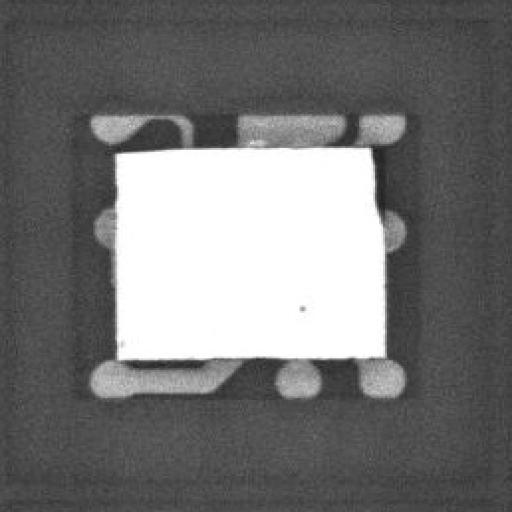DIE_BROKEN: (367, 142, 385, 222)
